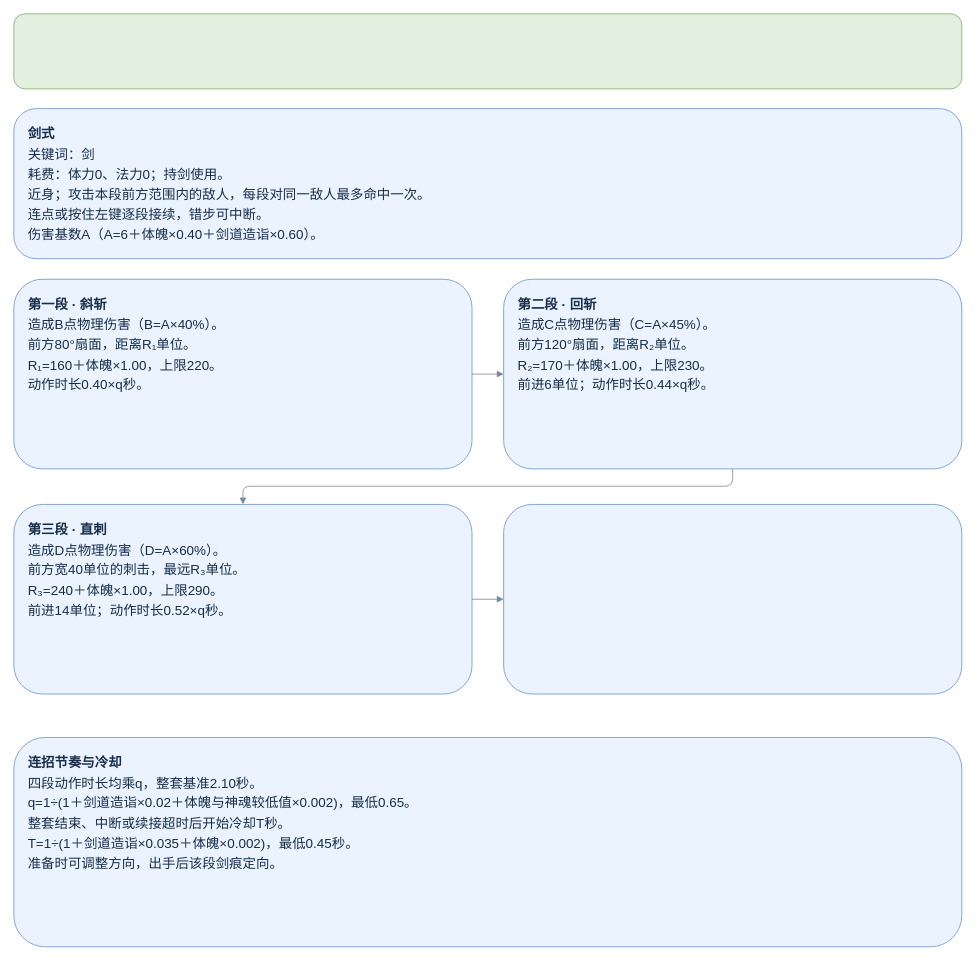
The diagram is 976 pixels wide and 961 high, and some of its shapes have lost their labels. Here are the shapes that lost their labels. From the top down, the centre of each, then its label:
[487,51]: 剑式 持剑四段连招
[732,599]: 第四段 · 横扫 造成E点物理伤害（E=A×80%）。 前方170°扇面，距离R₄单位。 R₄=200＋体魄×1.20，上限270。 动作时长0.74×q秒。
